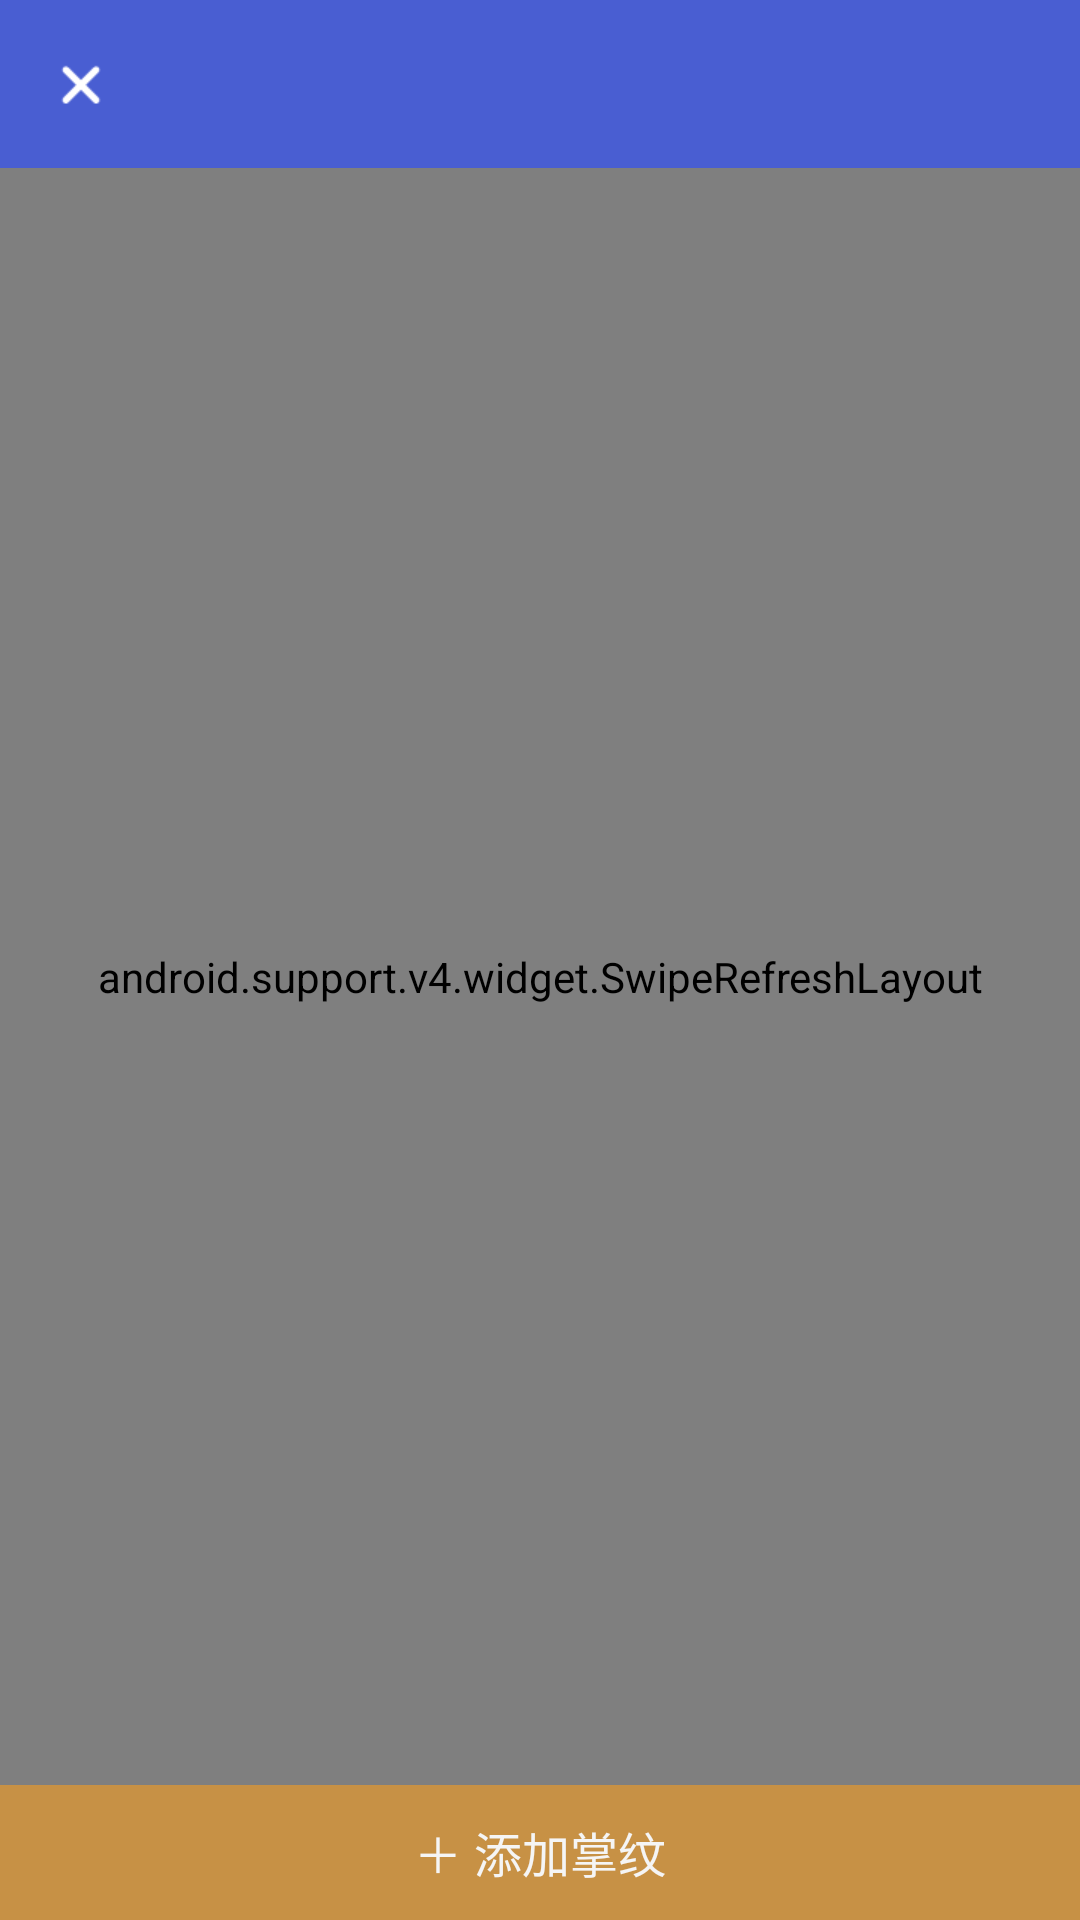

Screen size 1080 × 1920. Icon name, then its box in pixels as BBox(x1, y1, x2, y2):
cancel: BBox(62, 66, 100, 104)
